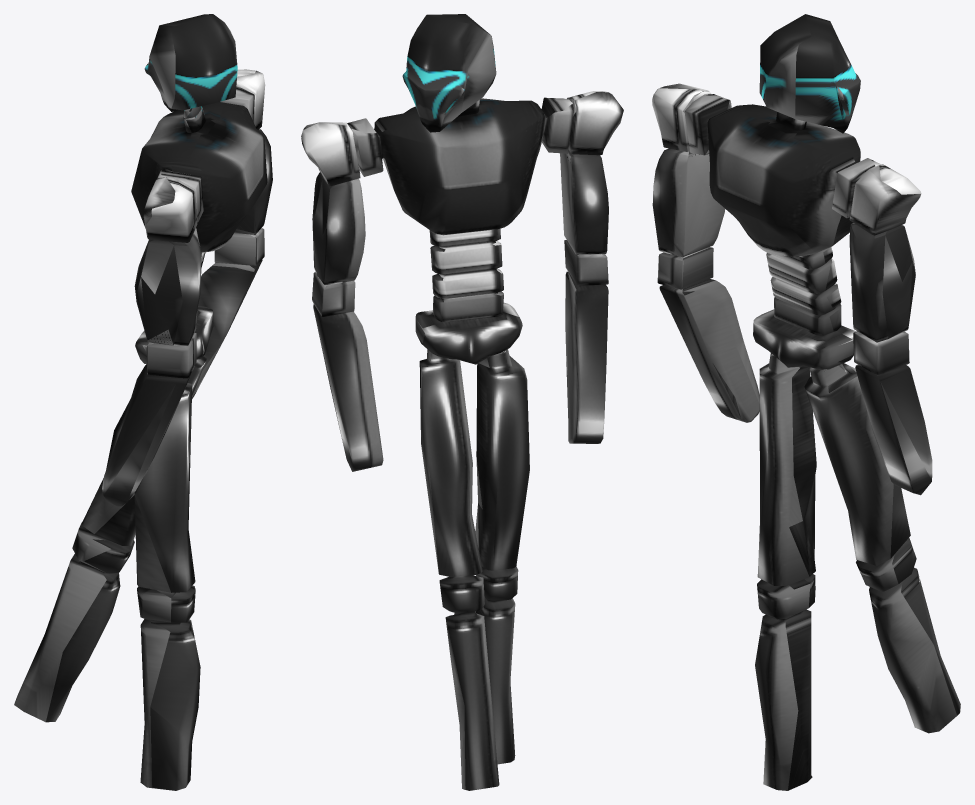
Rendered from frame_010.obj.
3 renders of one model, left to right at view 1: azimuth 30°, elevation 25°; view 2: azimuth 150°, elevation 25°; view 3: azimuth 270°, elevation 25°, orthographic. The views are drawn at different scales.
Parts seen in each view (by area): view 1: Cyborg, PierzaI, PiernaD, Cabeza, AntebrazoD, BrazoD; view 2: Cyborg, PiernaD, PierzaI, AntebrazoD, Cabeza, BrazoD; view 3: Cyborg, PierzaI, PiernaD, AntebrazoD, Cabeza, BrazoD.
Boxes of the visible parts, x1,y1,x2,y2 form: Cyborg: [102, 86, 267, 506]; PierzaI: [134, 383, 200, 790]; PiernaD: [14, 355, 206, 722]; Cabeza: [144, 14, 237, 111]; AntebrazoD: [214, 69, 272, 265]; BrazoD: [192, 259, 262, 398]; Cyborg: [347, 91, 623, 443]; PiernaD: [419, 349, 499, 790]; PierzaI: [475, 349, 529, 764]; AntebrazoD: [301, 122, 365, 316]; Cabeza: [402, 14, 496, 132]; BrazoD: [313, 304, 383, 471]; Cyborg: [652, 83, 881, 422]; PierzaI: [755, 353, 816, 790]; PiernaD: [804, 363, 960, 733]; AntebrazoD: [849, 164, 921, 375]; Cabeza: [759, 14, 860, 133]; BrazoD: [855, 364, 932, 495].
Bounding box in the file's own units: 8.09 × 24.73 × 8.93.
1 material, 1 textured.
